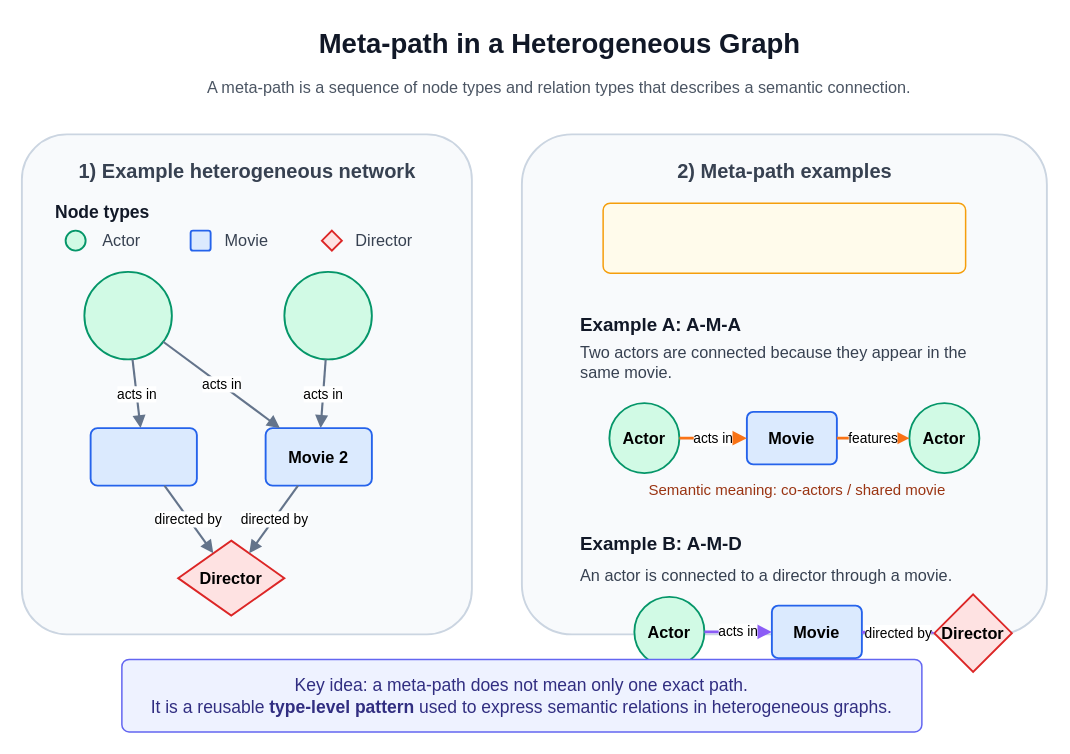
The diagram is 1070 pixels wide and 754 high, and some of its shapes have lost their labels. Here are the shapes that lost their labels. From the top down, the centre of each, then its label:
point 784,237: Meta-path = typed path pattern NodeType → NodeType → ...
point 127,315: Actor 1
point 327,315: Actor 2
point 143,456: Movie 1
